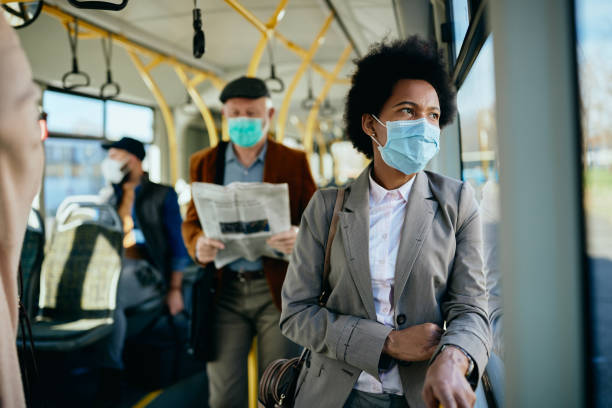with mask: (371, 80, 442, 177), (212, 72, 275, 158), (93, 137, 146, 191)
